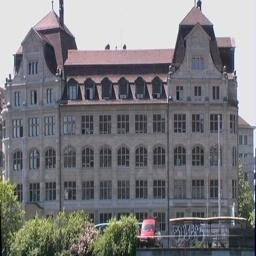building: (3, 2, 239, 219)
